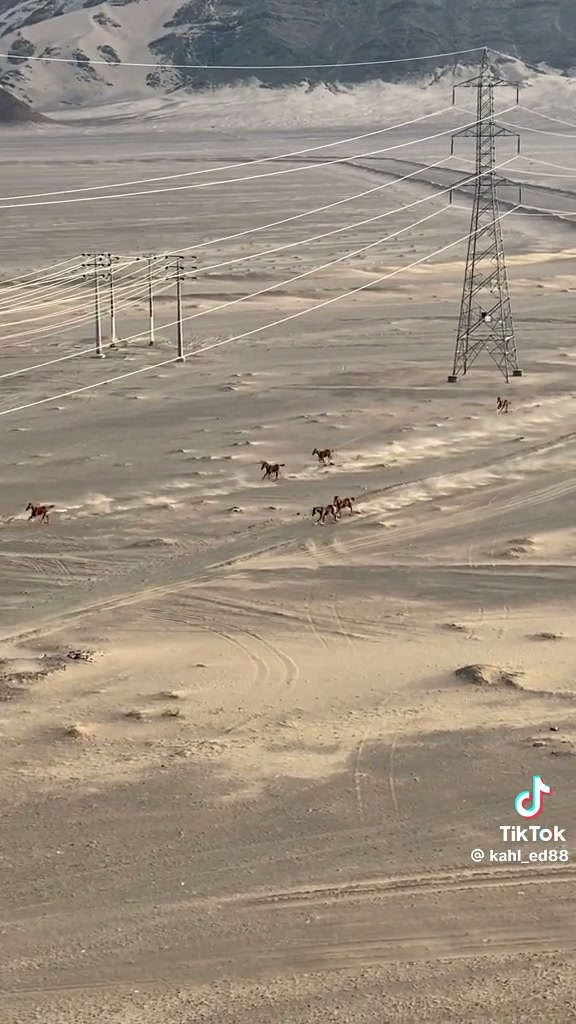animal: (26, 503, 54, 522), (312, 504, 336, 524), (261, 461, 283, 480), (333, 497, 353, 514), (312, 448, 332, 465), (497, 397, 510, 412)
vehicle_track: (0, 521, 300, 640), (240, 864, 575, 905)
